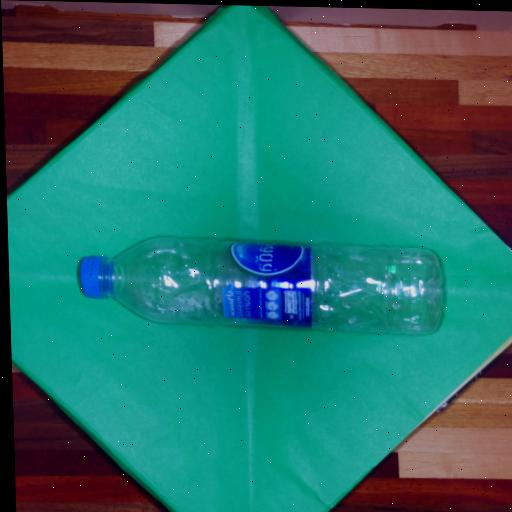bottle: (77, 232, 448, 336)
